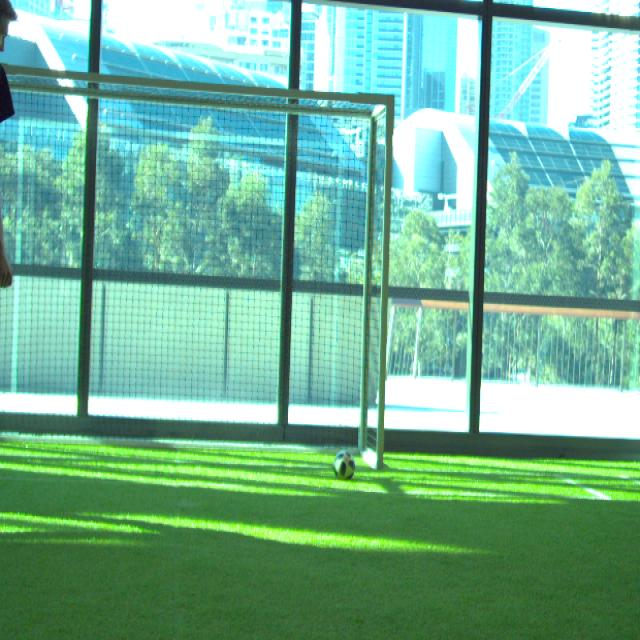ball: (331, 449, 356, 482)
goalpost: (374, 93, 393, 466)
